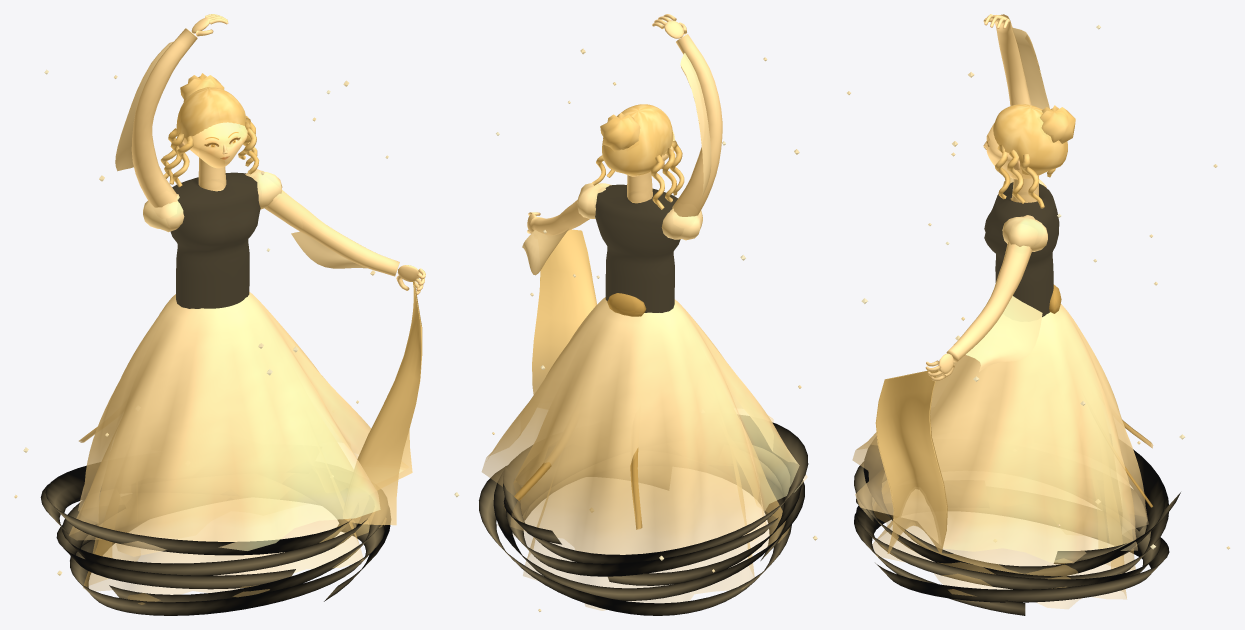
Rendered from egle.glb.
3 views of the same model, side by side, from view 1: azimuth 30°, elevation 25°; view 2: azimuth 150°, elevation 25°; view 3: azimuth 270°, elevation 25° (orthographic). The views are drawn at different scales.
Parts seen in each view (by area): view 1: egle-ghost, egle-fx, egle-face; view 2: egle-ghost, egle-fx; view 3: egle-ghost, egle-fx, egle-face.
Part boxes in pixels (box(x1,y1,x2,y2)): egle-ghost: box(69, 14, 425, 604); egle-fx: box(40, 172, 390, 615); egle-face: box(183, 122, 247, 168); egle-ghost: box(481, 14, 807, 610); egle-fx: box(479, 184, 808, 615); egle-ghost: box(852, 14, 1153, 608); egle-fx: box(854, 182, 1180, 615); egle-face: box(986, 124, 1040, 179).
Bounding box in the file's own units: 0.8252 × 1.35 × 0.8472.
Materials: 5 (1 with a texture image).
